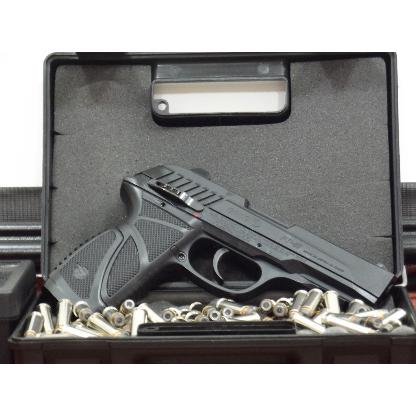gun: (42, 165, 396, 318)
